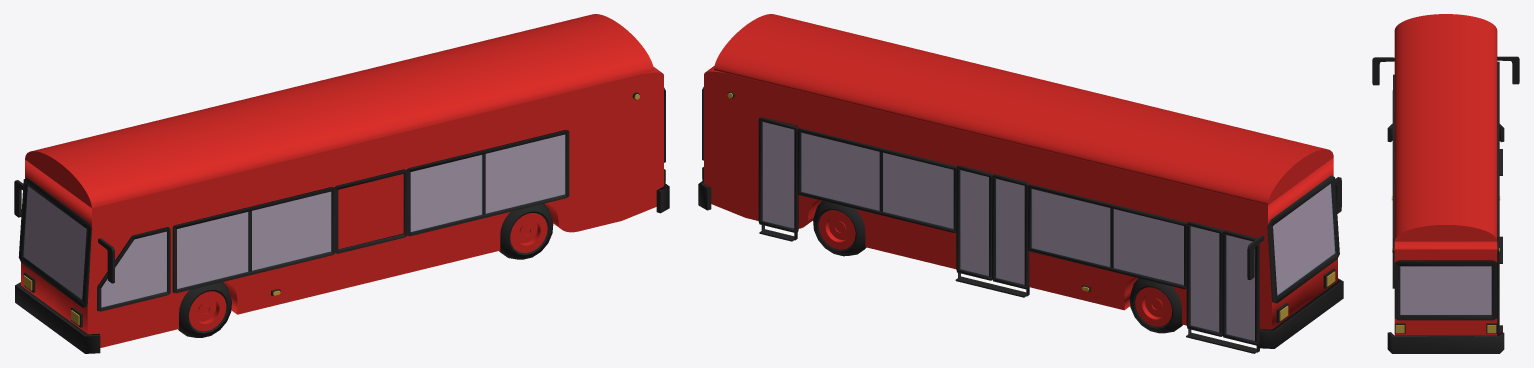
Rendered from bus.glb.
The picture shows the model from 3 angles, left to right: view 1: azimuth 30°, elevation 25°; view 2: azimuth 150°, elevation 25°; view 3: azimuth 270°, elevation 25°; orthographic projection. The views are drawn at different scales.
Parts seen in each view (by area): view 1: Extrusion Spline (×2), Cylinder, Cube (×3), Spline (×6), Torus (×2), Cylindrical Lathe (×2); view 2: Extrusion Spline, Cylinder, Cube (×8), Spline (×9), Torus (×2), Cylindrical Lathe (×2); view 3: Cylinder, Extrusion Spline (×3), Spline (×8), Cube (×3).
Boxes of the visible parts, box(x1,y1,x2,y2) form: Extrusion Spline (×2): box(21, 66, 663, 347); Cylinder: box(25, 14, 653, 208); Cube (×3): box(23, 134, 565, 299); Spline (×6): box(15, 130, 569, 353); Torus (×2): box(178, 203, 553, 337); Cylindrical Lathe (×2): box(189, 213, 547, 331); Extrusion Spline: box(704, 66, 1337, 342); Cylinder: box(714, 14, 1333, 205); Cube (×8): box(762, 122, 1335, 340); Spline (×9): box(758, 117, 1343, 348); Torus (×2): box(813, 201, 1182, 333); Cylindrical Lathe (×2): box(818, 210, 1172, 326); Cylinder: box(1394, 14, 1497, 241); Extrusion Spline (×3): box(1372, 56, 1519, 335); Spline (×8): box(1387, 90, 1504, 353); Cube (×3): box(1394, 266, 1497, 333).
Bounding box in the file's own units: 14.01 × 4.19 × 3.98.
